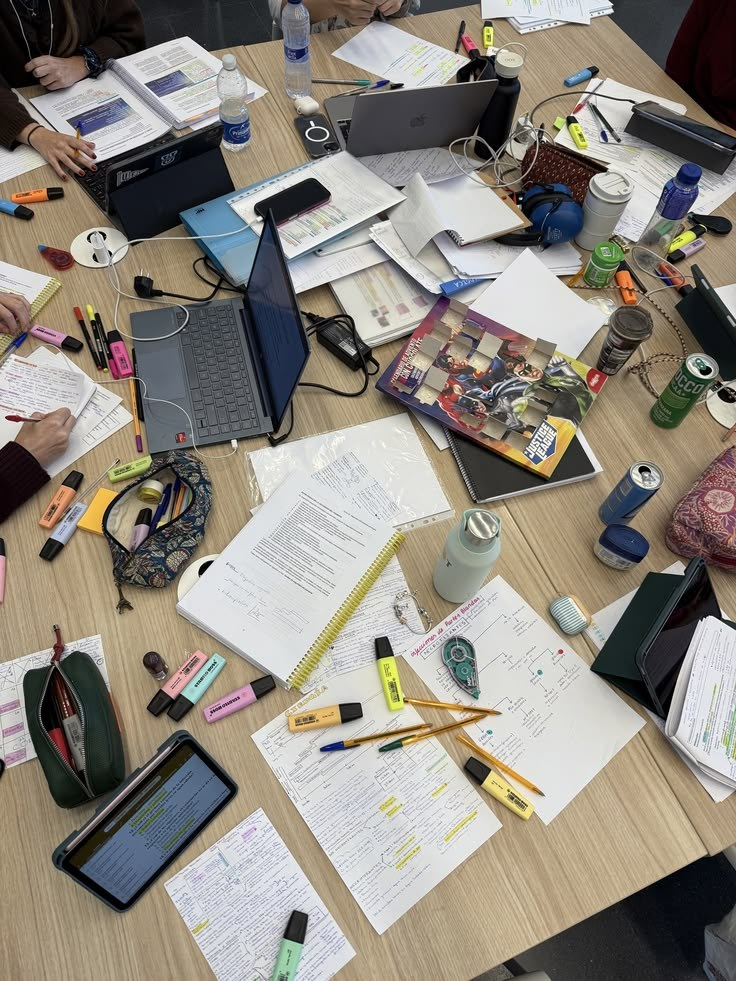cell phone: (253, 177, 332, 227), (294, 113, 340, 158)
laptop: (130, 210, 311, 454), (323, 77, 499, 156)
